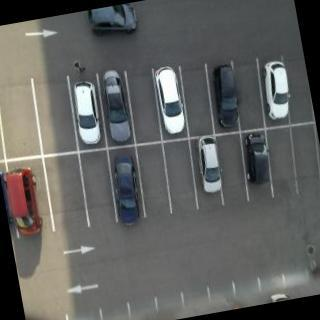car: (3, 160, 49, 244), (150, 60, 194, 142), (107, 151, 150, 232), (97, 65, 137, 148), (70, 76, 111, 152), (257, 55, 299, 129), (207, 59, 247, 133), (190, 132, 229, 202), (239, 128, 282, 191), (87, 3, 146, 46)
parking-space: (28, 69, 87, 165), (40, 146, 97, 239), (75, 143, 128, 239), (1, 72, 52, 169), (120, 62, 168, 150), (175, 59, 222, 145), (158, 134, 206, 217), (132, 141, 179, 225), (227, 53, 272, 140), (211, 127, 256, 212), (261, 123, 306, 203), (276, 50, 317, 131), (288, 121, 320, 197)
